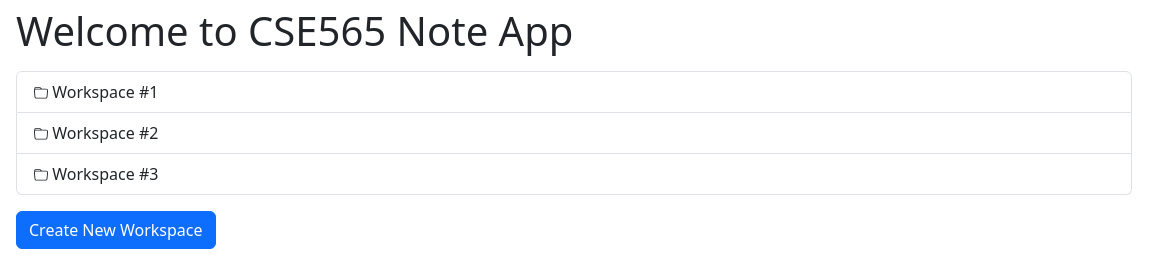
Test case: WelcomeScreen Component Test with Navigation
This screenshot has width=1149, height=266.
Check: the link "Create New Workspace" is shown, box [16,211,216,249]
// Find the first workspace (Workspace #1) and click it
Click the link "Workspace #1". click: (105, 92)
box: [16,71,1132,113]
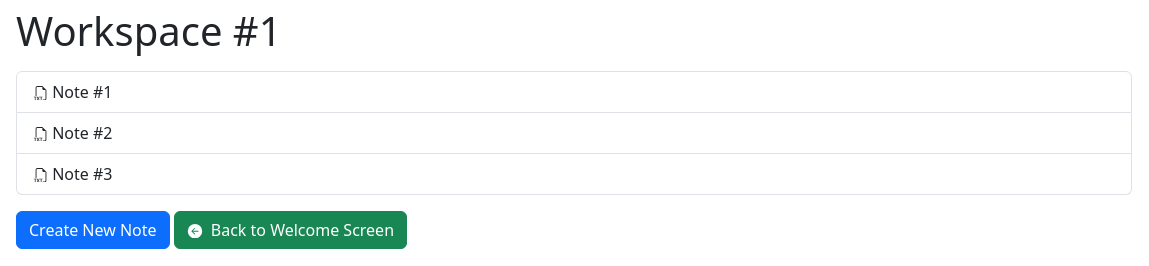
Check: the link "Note #1" is shown, box [16,71,1132,113]
Check: the link "Create New Note" is shown, box [16,211,170,249]
Check: the link "Back to Welcome Screen" is shown, box [174,211,407,249]
